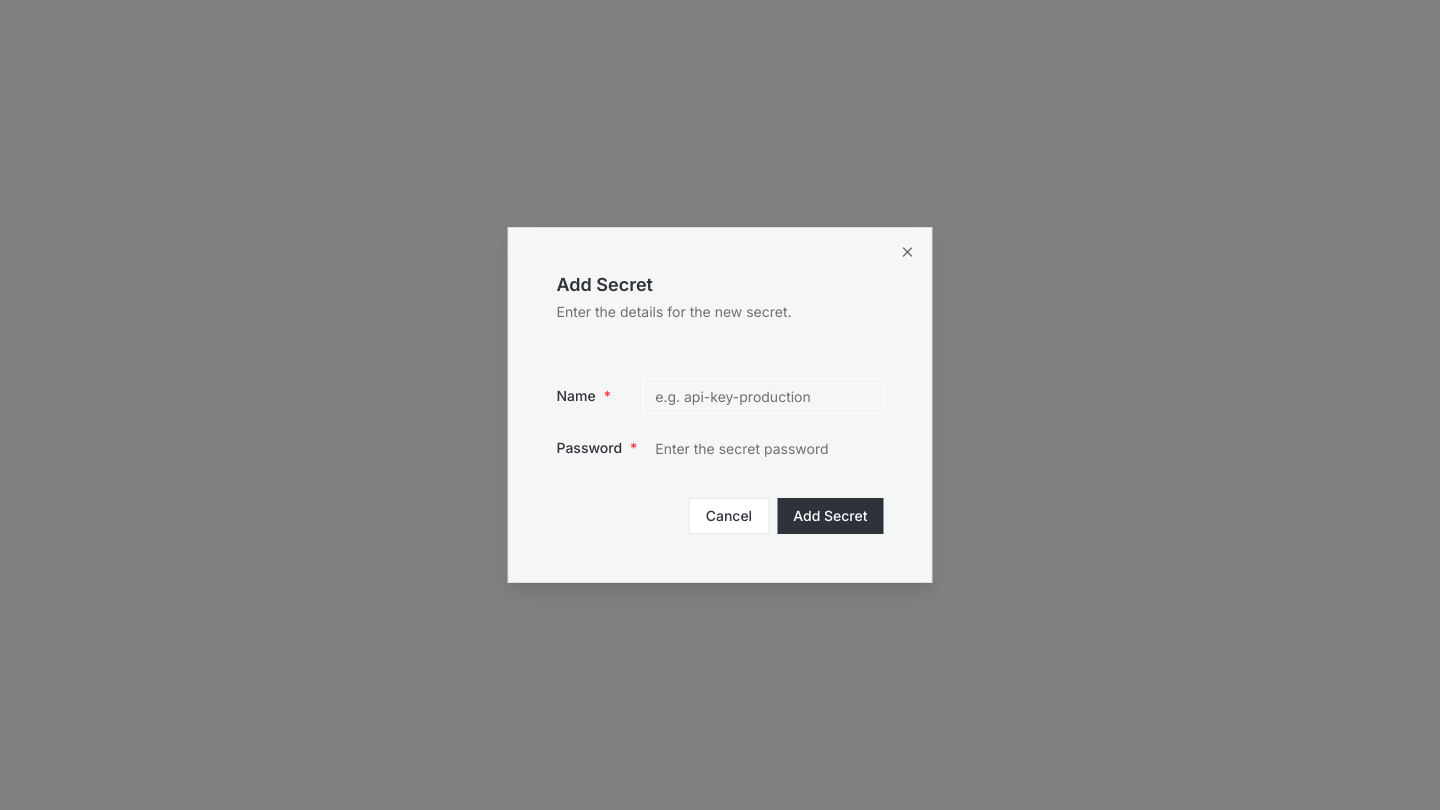
Test: SecretEditor › validation › should show error when password is empty on submit
Type "valid-secret" into the field with placeholder "e.g. api-key-production".
click(763, 396); type("valid-secret")  # box x1=642 y1=378 x2=884 y2=414
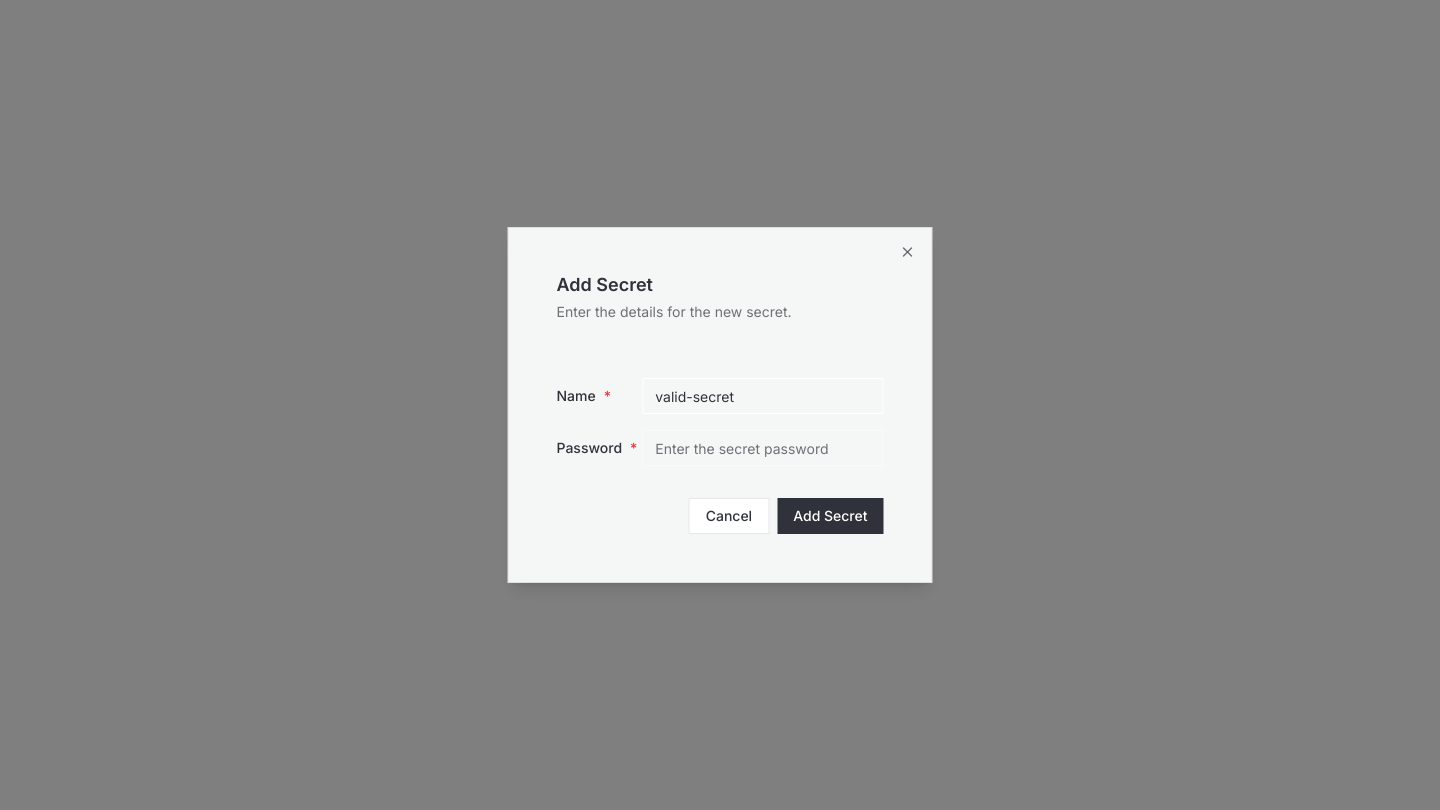
Click the button "Add Secret".
click(830, 516)  # box x1=777 y1=498 x2=884 y2=534
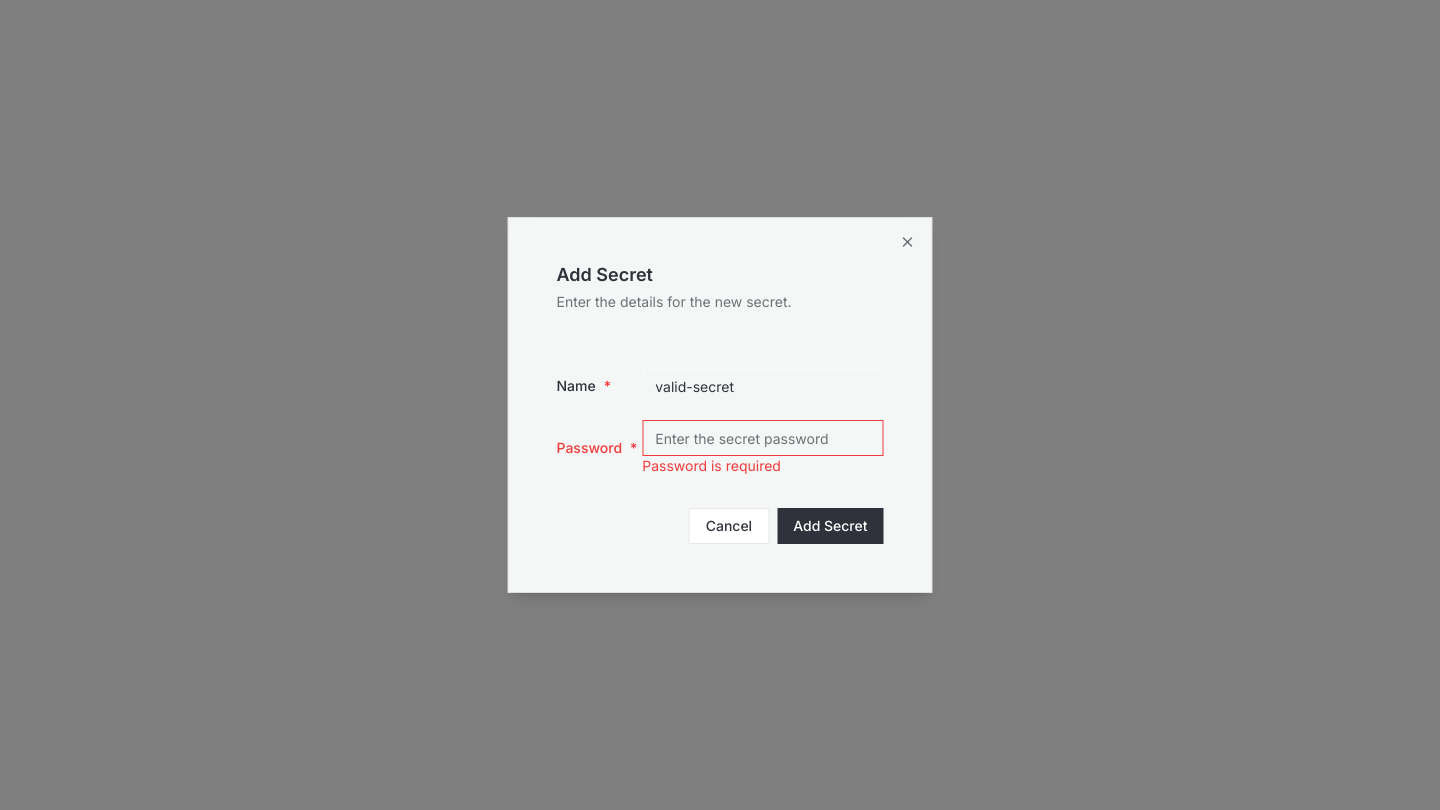
Check: the text "Password is required" is shown, box x1=642 y1=457 x2=781 y2=474
